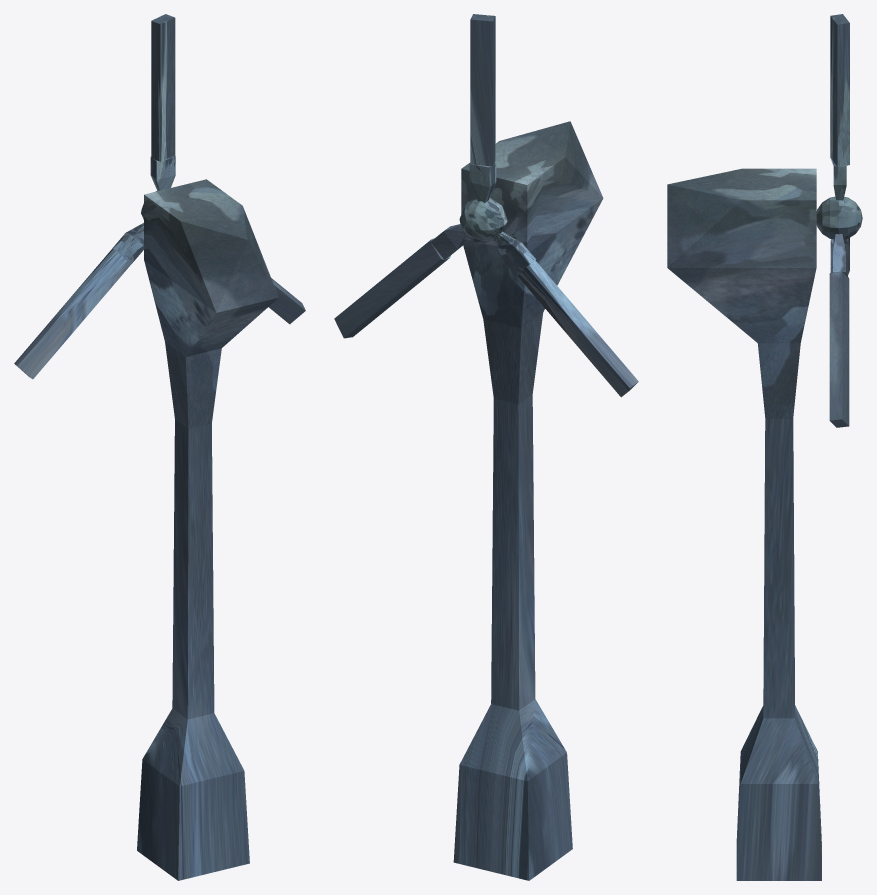
File: windmill-all.obj
3 views of the same model, side by side, from view 1: azimuth 30°, elevation 25°; view 2: azimuth 150°, elevation 25°; view 3: azimuth 270°, elevation 25° (orthographic). The views are drawn at different scales.
Size of the model in its own units: 4.58 by 12.46 by 2.62.
